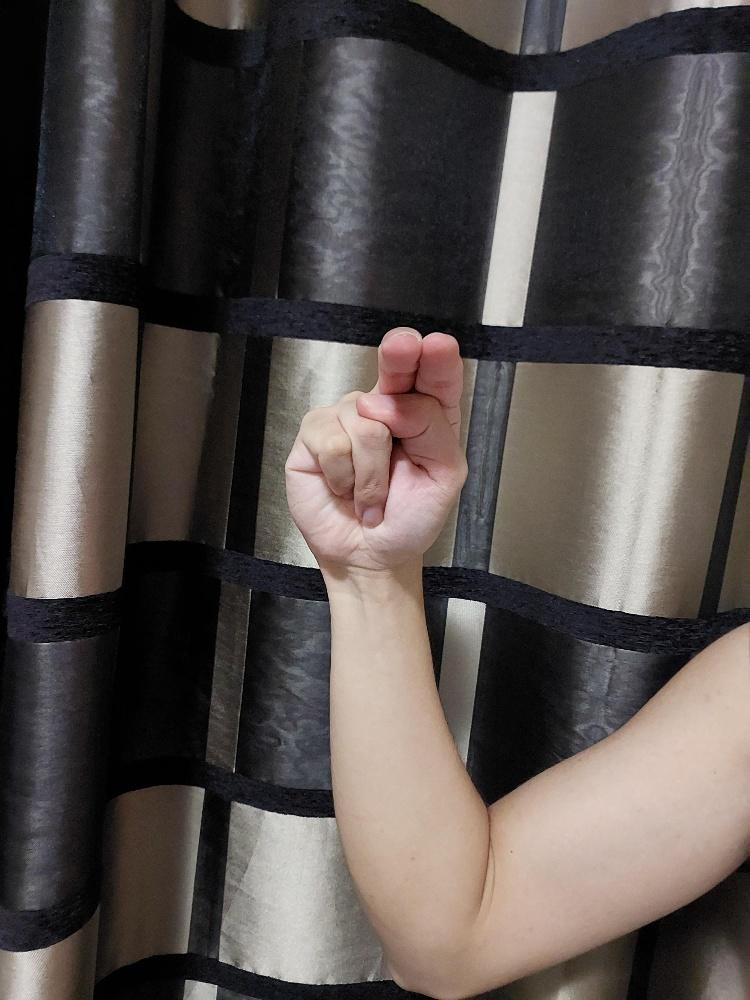n: (281, 322, 470, 575)
